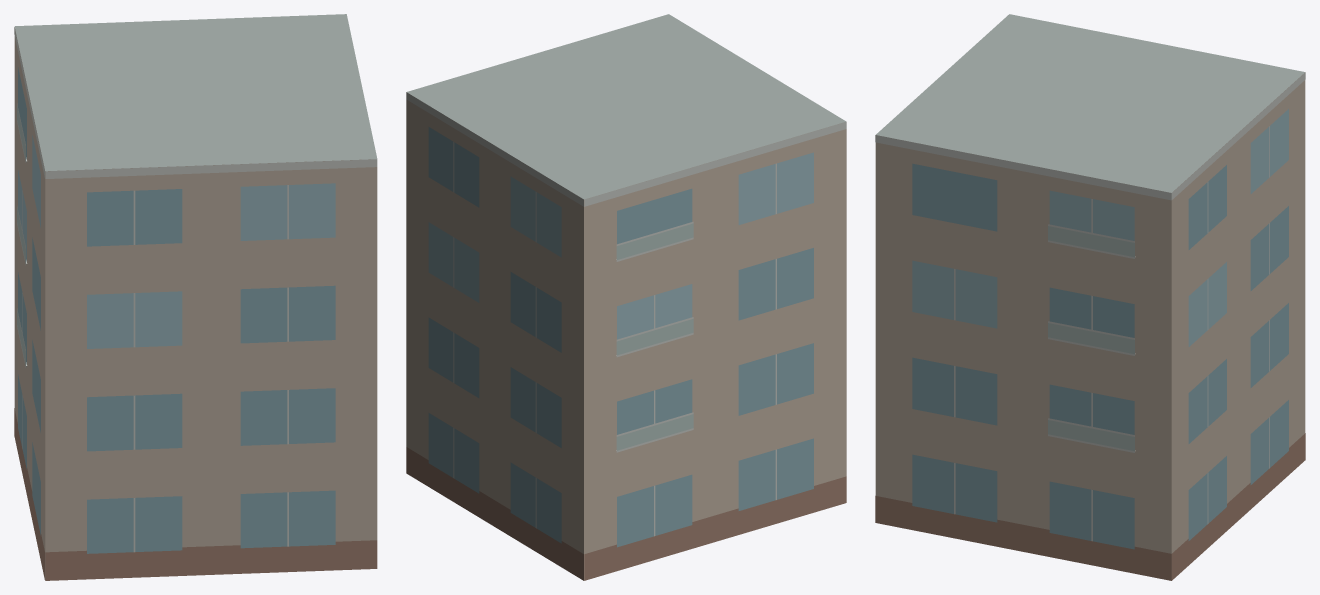
Rendered from survey-upis-33024906.glb.
3 renders of one model, left to right at view 1: azimuth 30°, elevation 25°; view 2: azimuth 150°, elevation 25°; view 3: azimuth 270°, elevation 25°, orthographic. The views are drawn at different scales.
Visible parts, largest first — view 1: survey-upis-33024906.tmp; view 2: survey-upis-33024906.tmp; view 3: survey-upis-33024906.tmp.
Part boxes in pixels (left/top/right/bottom): survey-upis-33024906.tmp: left=14, top=14, right=377, bottom=580; survey-upis-33024906.tmp: left=406, top=14, right=846, bottom=580; survey-upis-33024906.tmp: left=875, top=14, right=1305, bottom=580.
Size of the model in its own units: 12.47 by 12.6 by 12.67.
